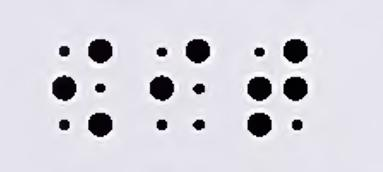one_cell_alphabet_ikaw: (150, 39, 211, 131)
one_cell_alphabet_tayo: (246, 39, 308, 138)
one_cell_non_alphabet_ako: (53, 38, 113, 138)
